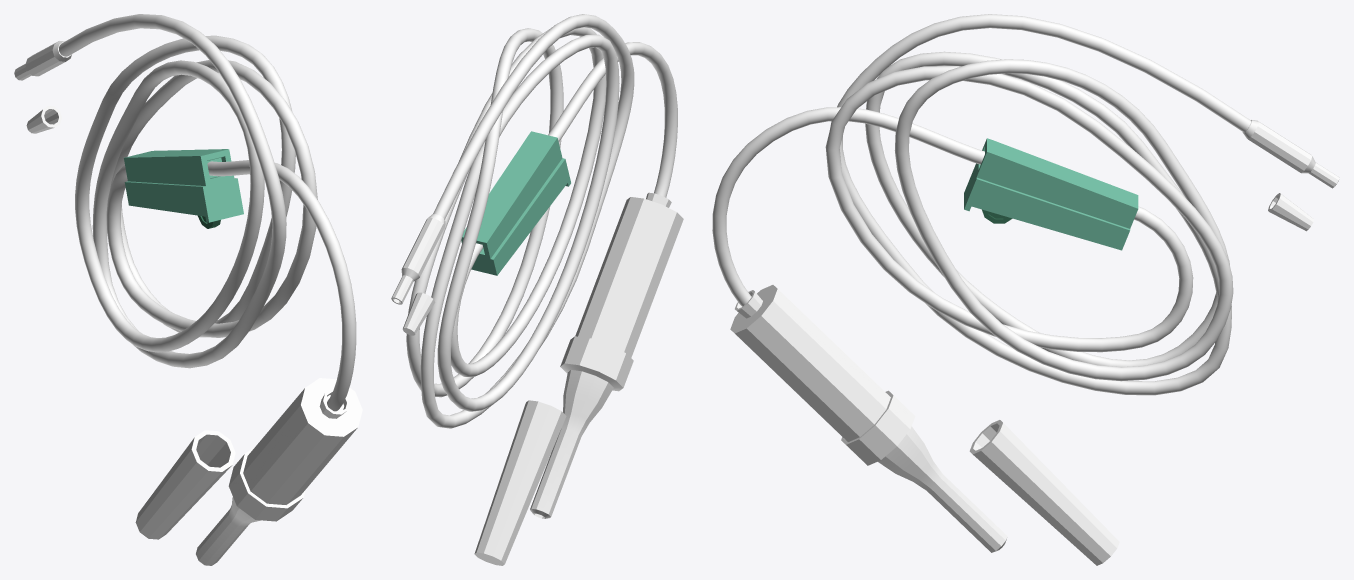
The model's file is equipo para soro.fbx.
3 views of the same model, side by side, from view 1: azimuth 30°, elevation 25°; view 2: azimuth 150°, elevation 25°; view 3: azimuth 270°, elevation 25° (orthographic). The views are drawn at different scales.
Visible parts, largest first — view 1: Bézier - Curva.001, Cilindro.004, Cubo, Cilindro.001, Bézier - Curva, Cilindro.002, Cilindro.003; view 2: Bézier - Curva.001, Cilindro.004, Cubo, Cilindro.001, Bézier - Curva, Cilindro.002, Cilindro.003; view 3: Bézier - Curva.001, Cilindro.004, Cubo, Cilindro.001, Bézier - Curva, Cilindro.002, Cilindro.003.
Part boxes in pixels (<box>): Bézier - Curva.001: <box>59,14,317,368</box>; Cilindro.004: <box>196,378,362,565</box>; Cubo: <box>124,149,243,228</box>; Cilindro.001: <box>135,430,235,539</box>; Bézier - Curva: <box>207,160,356,411</box>; Cilindro.002: <box>14,41,71,80</box>; Cilindro.003: <box>26,106,61,133</box>; Bézier - Curva.001: <box>406,14,634,428</box>; Cilindro.004: <box>530,192,683,518</box>; Cubo: <box>461,131,570,275</box>; Cilindro.001: <box>474,400,566,565</box>; Bézier - Curva: <box>548,42,677,197</box>; Cilindro.002: <box>391,214,445,304</box>; Cilindro.003: <box>402,292,435,335</box>; Bézier - Curva.001: <box>825,14,1251,395</box>; Cilindro.004: <box>730,285,1007,552</box>; Cubo: <box>964,138,1138,250</box>; Cilindro.001: <box>969,420,1119,565</box>; Bézier - Curva: <box>712,107,984,306</box>; Cilindro.002: <box>1242,120,1339,188</box>; Cilindro.003: <box>1268,193,1313,231</box>.
Bounding box in the file's own units: 58.7 × 422 × 443.
